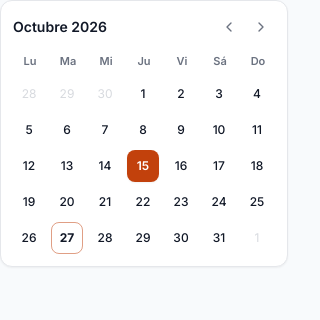
Test: Calendar Component › selecciona y cambia de mes al hacer clic en una fecha fuera del mes
This screenshot has width=320, height=320.
Click the 2nd cell "1": (257, 238) 241,222 -> 273,254
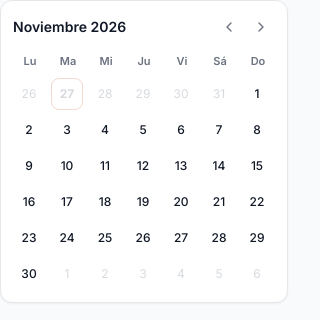
Expected: the heading "Noviembre 2026" is shown, 13,17 -> 126,37
